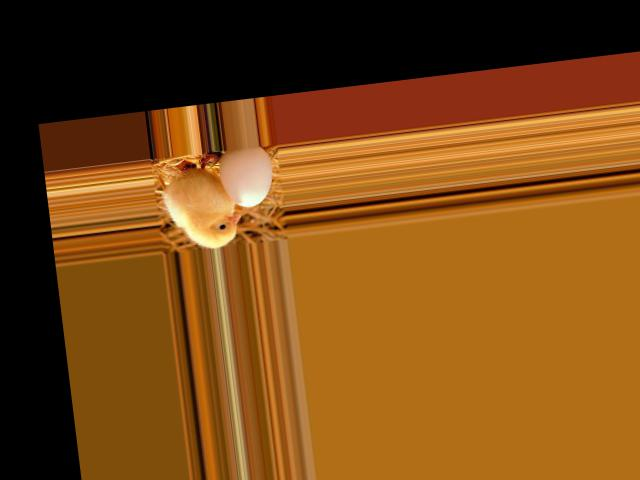egg: (216, 144, 275, 210)
